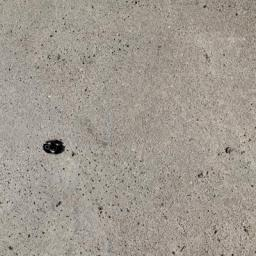FOD: (43, 137, 66, 159)
